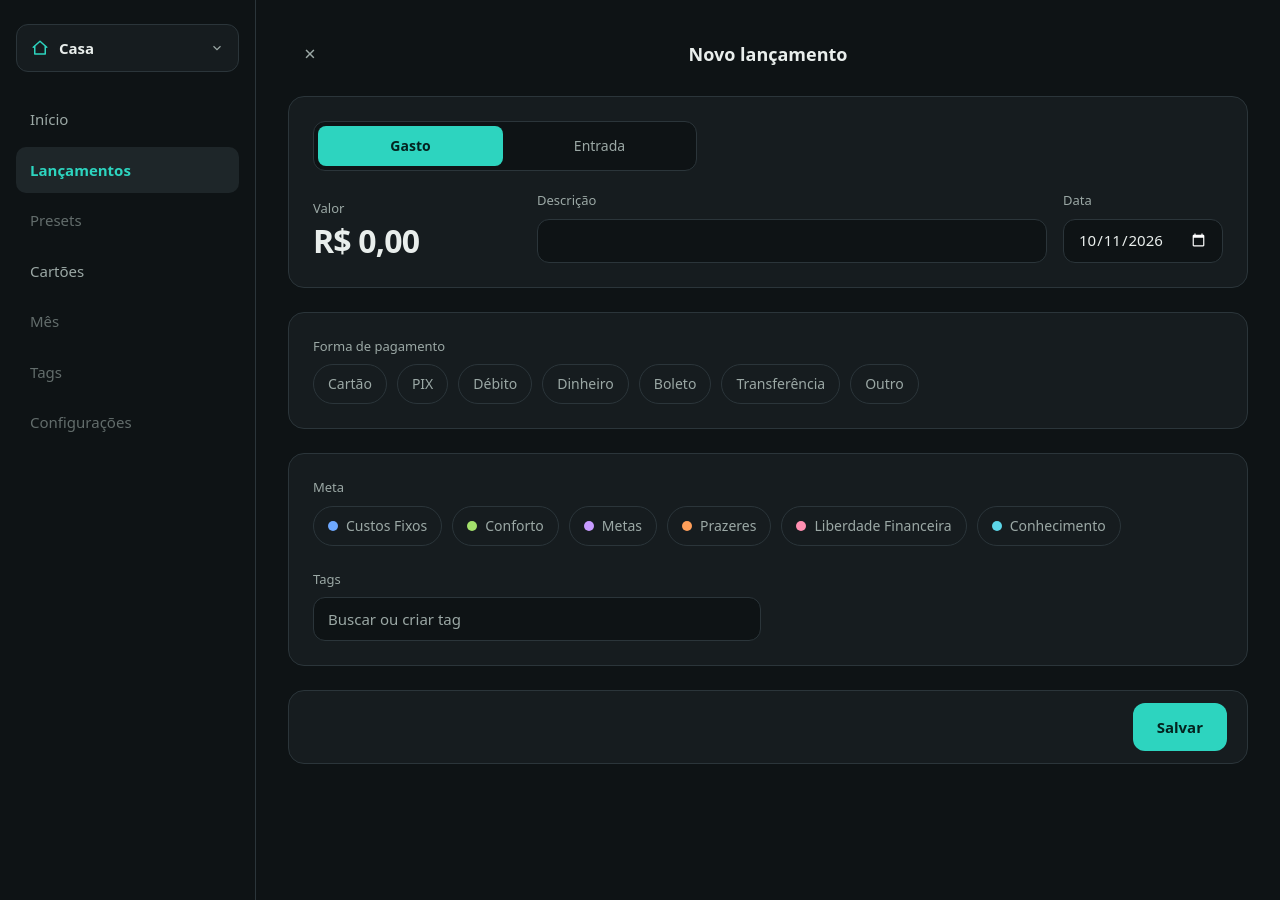
Scenario: novo lançamento › valida valor, descrição, meta e pagamento antes de enviar
Expected: the button "Custos Fixos" is shown, [313, 506, 442, 546]
Click the button "Salvar".
click(1180, 727)  # box [1133, 703, 1227, 751]
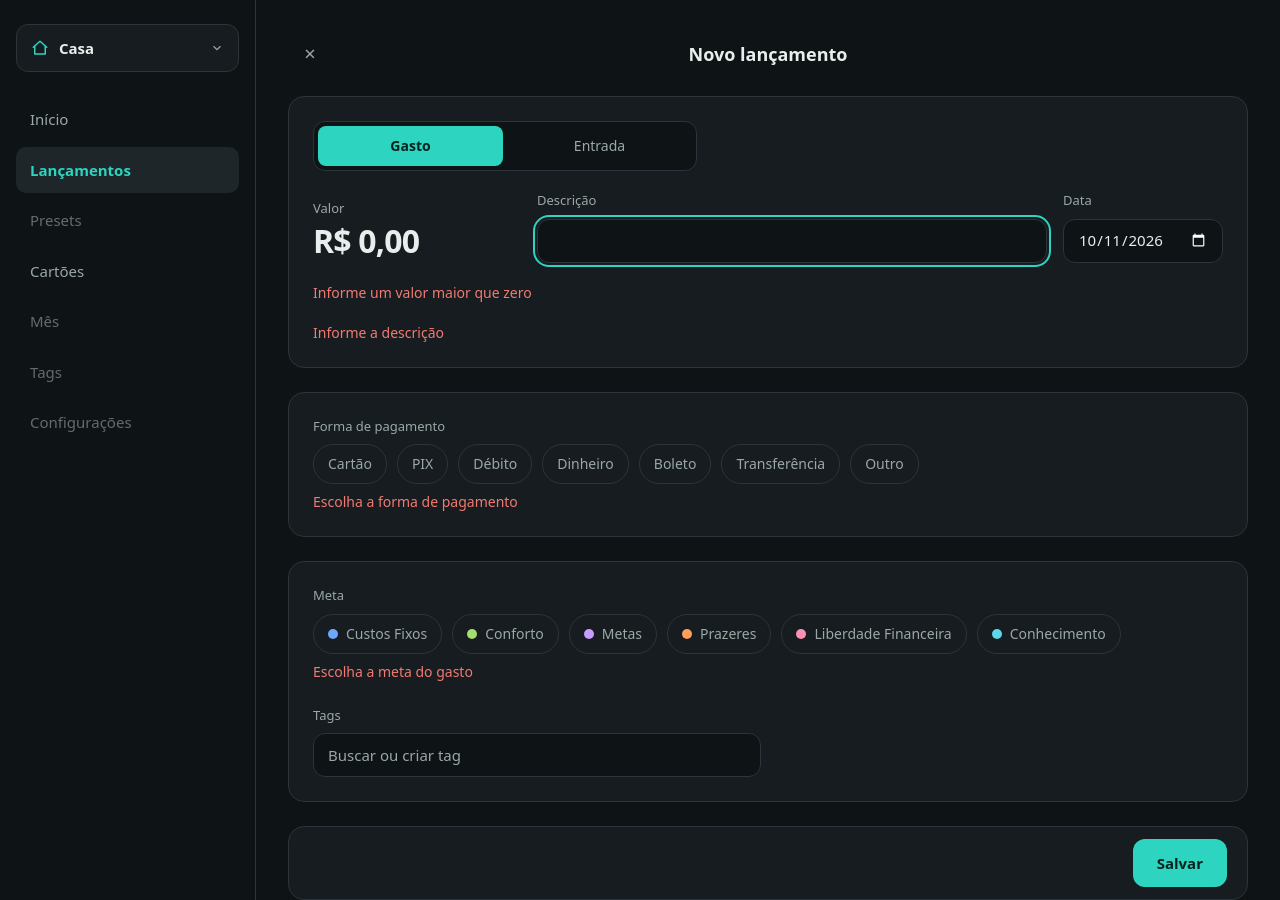
Expected: the text "Informe um valor maior que zero" is shown, [313, 282, 532, 302]
Expected: the text "Informe a descrição" is shown, [313, 322, 444, 342]
Expected: the text "Escolha a meta do gasto" is shown, [313, 662, 473, 680]
